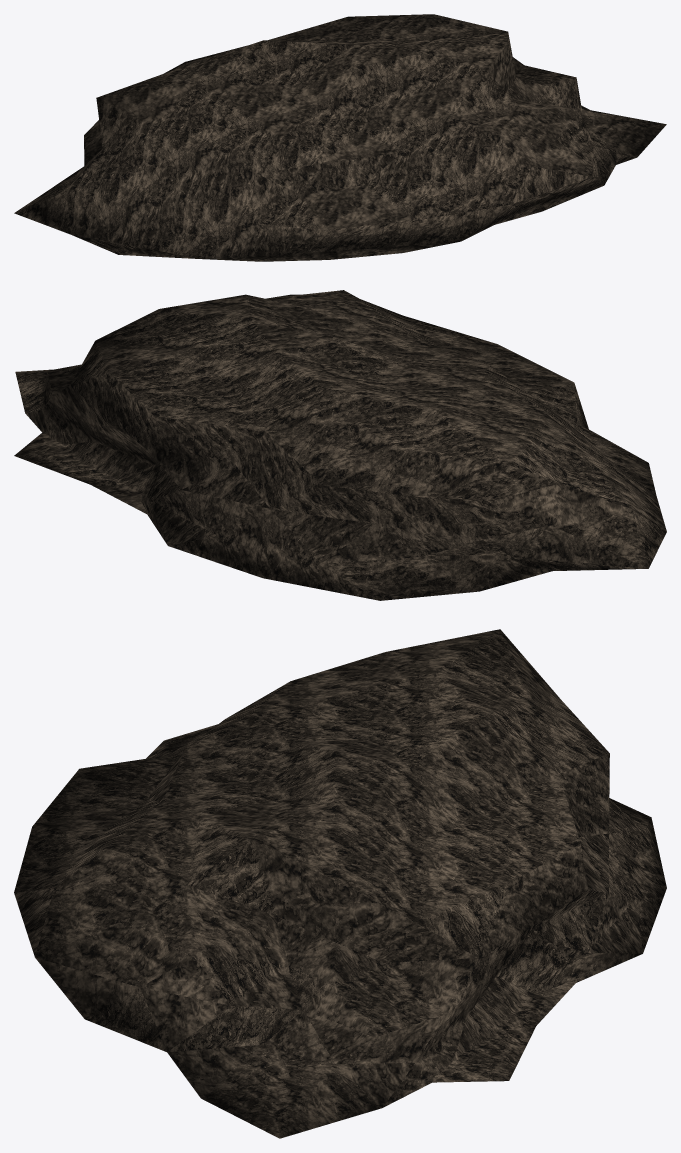
File: rock_6.glb
3 renders of one model, top to bottom at view 1: azimuth 30°, elevation 25°; view 2: azimuth 150°, elevation 25°; view 3: azimuth 270°, elevation 25°, orthographic. The views are drawn at different scales.
Visible parts, largest first — view 1: rock; view 2: rock; view 3: rock.
Boxes of the visible parts, <box> form: rock: <box>14,14,666,261</box>; rock: <box>14,290,666,600</box>; rock: <box>14,629,666,1138</box>.
Bounding box in the file's own units: 138 × 25.88 × 86.37.
1 material, 1 textured.
